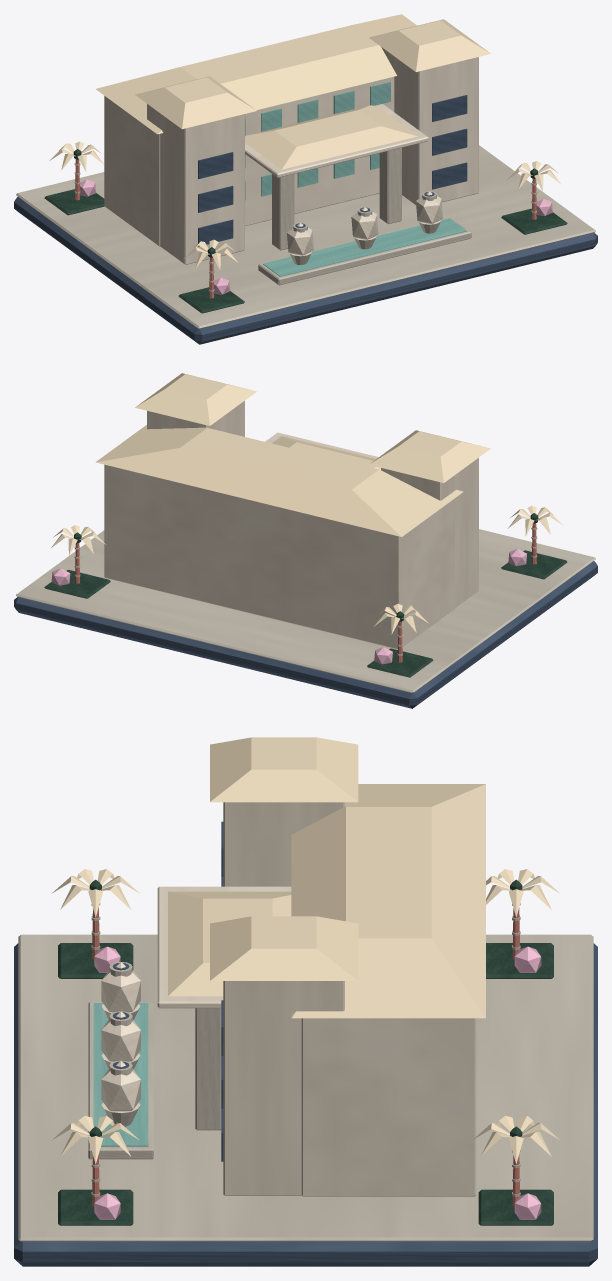
File: dusit-thani-diorama.glb
3 renders of one model, top to bottom at view 1: azimuth 30°, elevation 25°; view 2: azimuth 150°, elevation 25°; view 3: azimuth 270°, elevation 25°, orthographic. The views are drawn at different scales.
Visible parts, largest first — view 1: dusit-thani; view 2: dusit-thani; view 3: dusit-thani.
Part boxes in pixels (bbox=[...]): dusit-thani: bbox=[14, 14, 597, 344]; dusit-thani: bbox=[14, 373, 597, 708]; dusit-thani: bbox=[14, 737, 597, 1266].
Bounding box in the file's own units: 15 × 6.19 × 12.
Materials: 1 (1 with a texture image).
